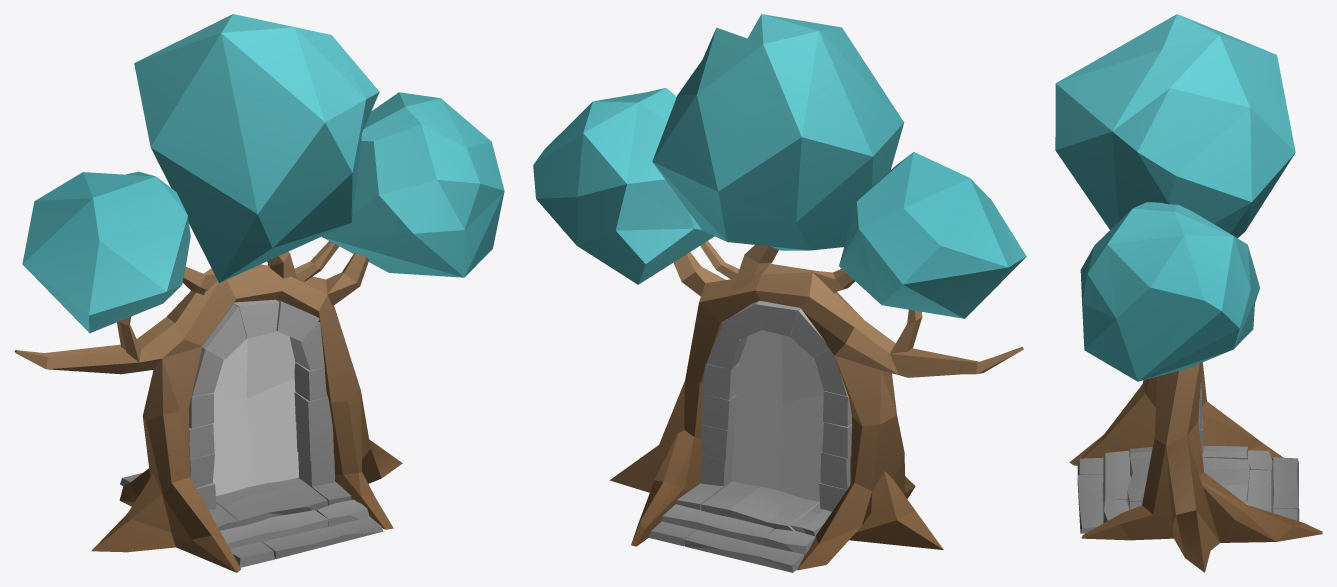
The model's file is tree_portal_blue.fbx.
3 views of the same model, side by side, from view 1: azimuth 30°, elevation 25°; view 2: azimuth 150°, elevation 25°; view 3: azimuth 270°, elevation 25° (orthographic). The views are drawn at different scales.
Parts seen in each view (by area): view 1: tree_portal_blue; view 2: tree_portal_blue; view 3: tree_portal_blue.
Boxes of the visible parts, x1=… form: tree_portal_blue: x1=14, y1=14, x2=504, y2=572; tree_portal_blue: x1=533, y1=14, x2=1026, y2=572; tree_portal_blue: x1=1055, y1=14, x2=1322, y2=572.
Size of the model in its own units: 12.03 by 11.97 by 6.2.
Materials: 2 (1 with a texture image).
